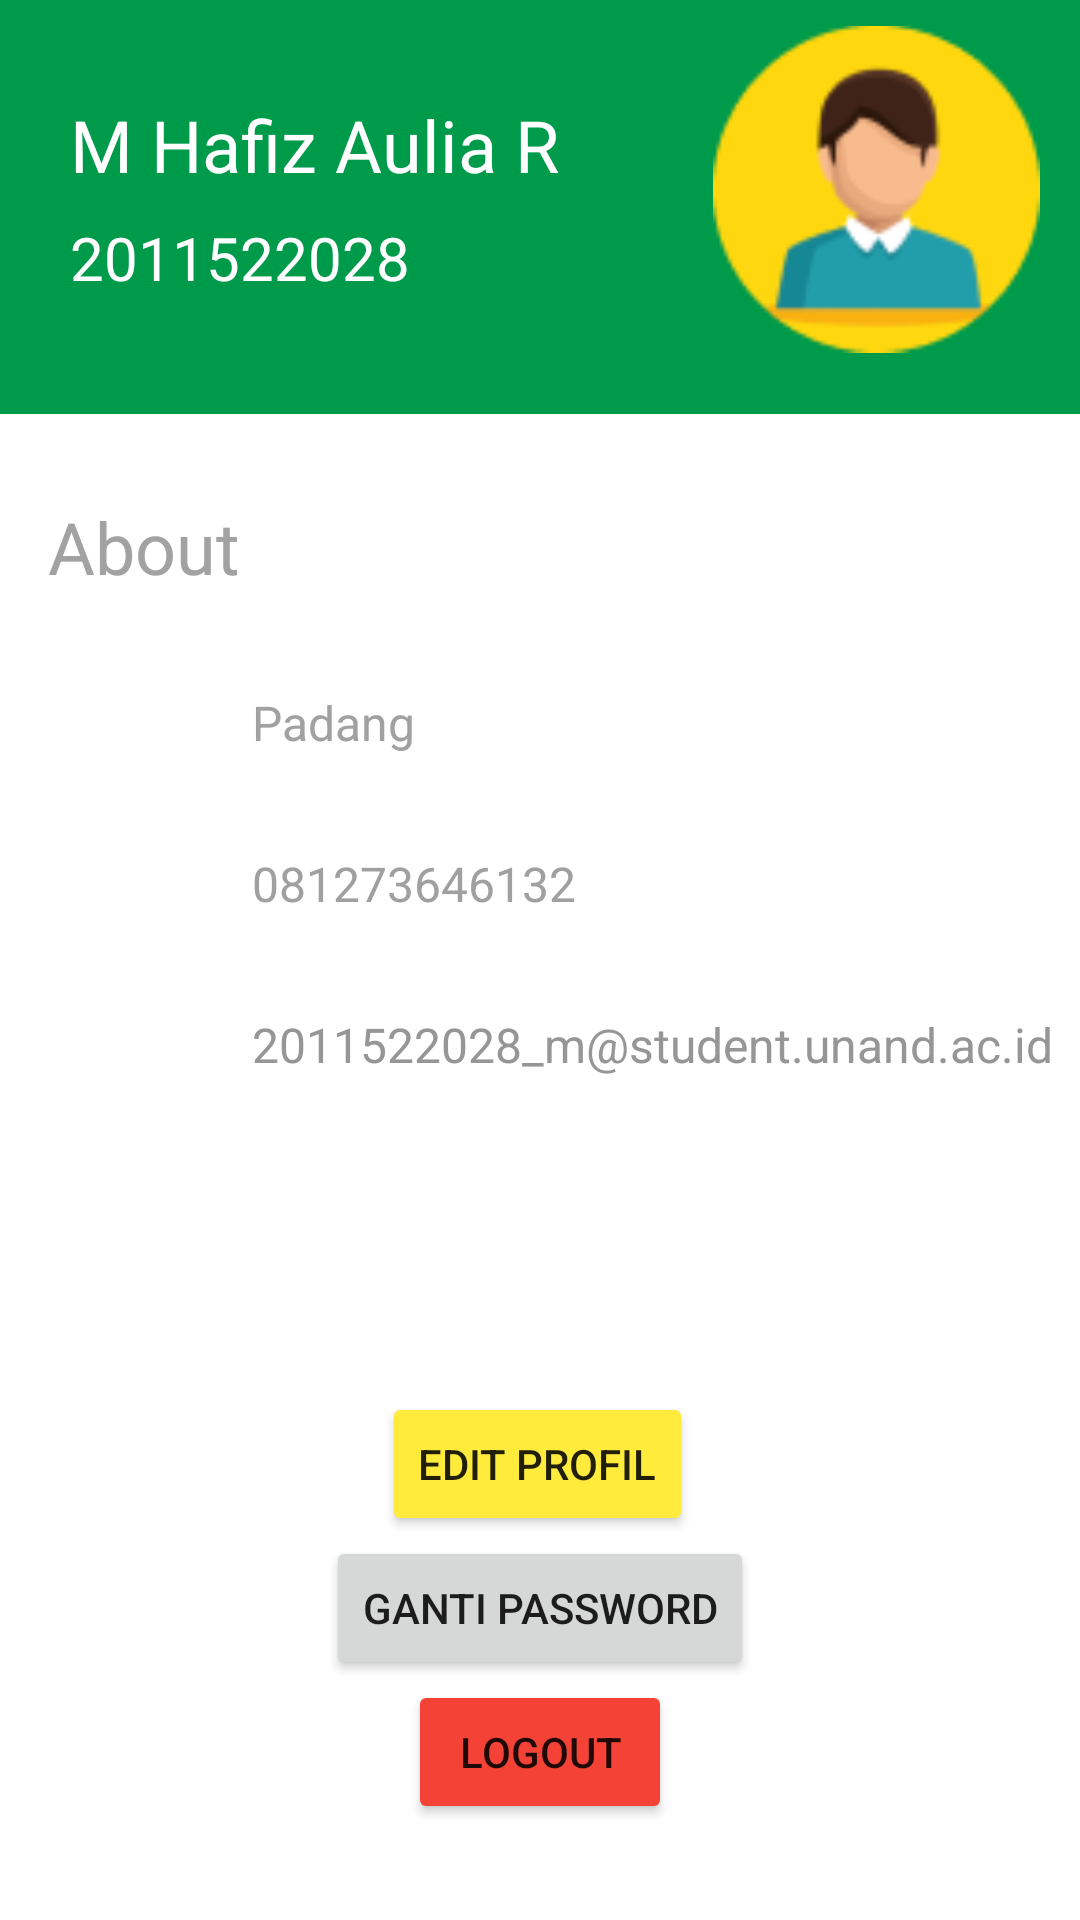

Icons on this 1080x1920 Android screen, each with its box as [x1, y1, x2, y2]:
profil: [713, 26, 1040, 353]
